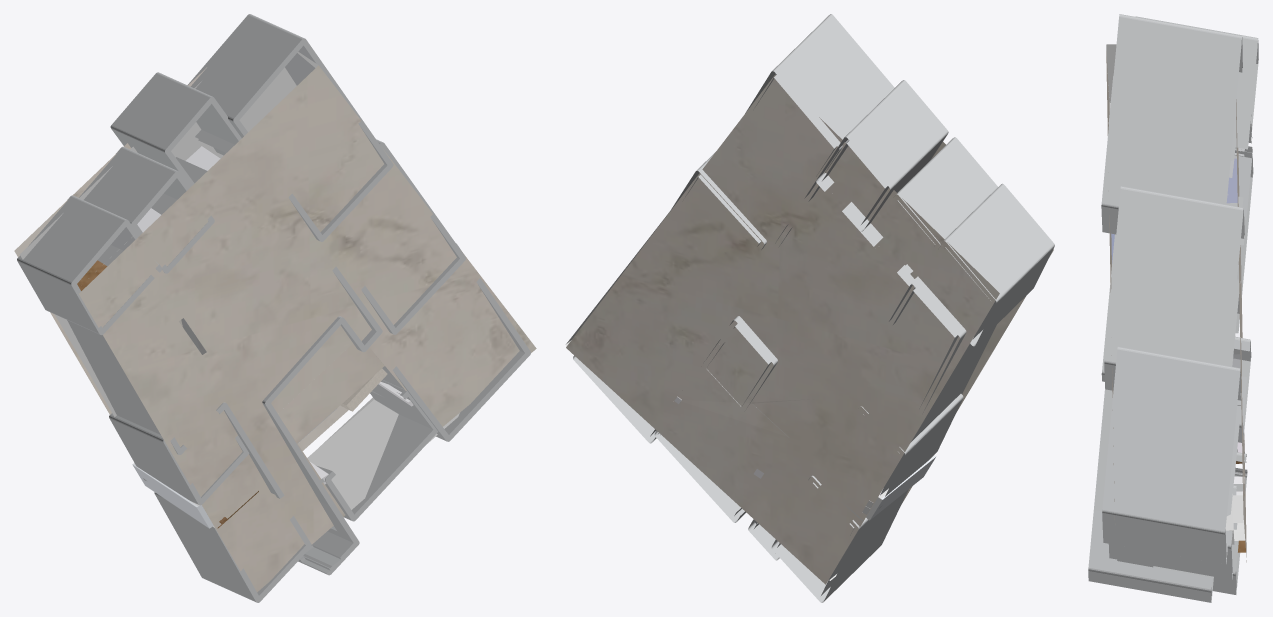
Rendered from 1st_floor_opt.glb.
3 views of the same model, side by side, from view 1: azimuth 30°, elevation 25°; view 2: azimuth 150°, elevation 25°; view 3: azimuth 270°, elevation 25° (orthographic). The views are drawn at different scales.
Parts seen in each view (by area): view 1: Geom3D.027, Geom3D.041, Geom3D_Geom3D.560_Defintion_Geom3D.560, Geom3D.193, Geom3D.189, Geom3D.181; view 2: Geom3D.193, Geom3D.041, Geom3D.027, Geom3D.189; view 3: Geom3D.041, Geom3D.193, Geom3D_Geom3D.560_Defintion_Geom3D.560, Geom3D.165, Geom3D.027, Geom3D.163.
Boxes of the visible parts, x1,y1,x2,y2 form: Geom3D.027: (79, 65, 536, 592); Geom3D.041: (17, 14, 530, 602); Geom3D_Geom3D.560_Defintion_Geom3D.560: (20, 51, 534, 527); Geom3D.193: (14, 67, 348, 492); Geom3D.189: (132, 463, 213, 528); Geom3D.181: (137, 146, 220, 232); Geom3D.193: (566, 74, 999, 584); Geom3D.041: (573, 14, 1054, 602); Geom3D.027: (902, 142, 1053, 502); Geom3D.189: (870, 456, 936, 519); Geom3D.041: (1088, 14, 1258, 602); Geom3D.193: (1236, 99, 1246, 562); Geom3D_Geom3D.560_Defintion_Geom3D.560: (1106, 44, 1244, 544); Geom3D.165: (1111, 158, 1237, 263); Geom3D.027: (1106, 51, 1115, 523); Geom3D.163: (1227, 159, 1238, 265).
Size of the model in its own units: 0.6969 by 0.8132 by 0.2083.
19 materials, 19 textured.
